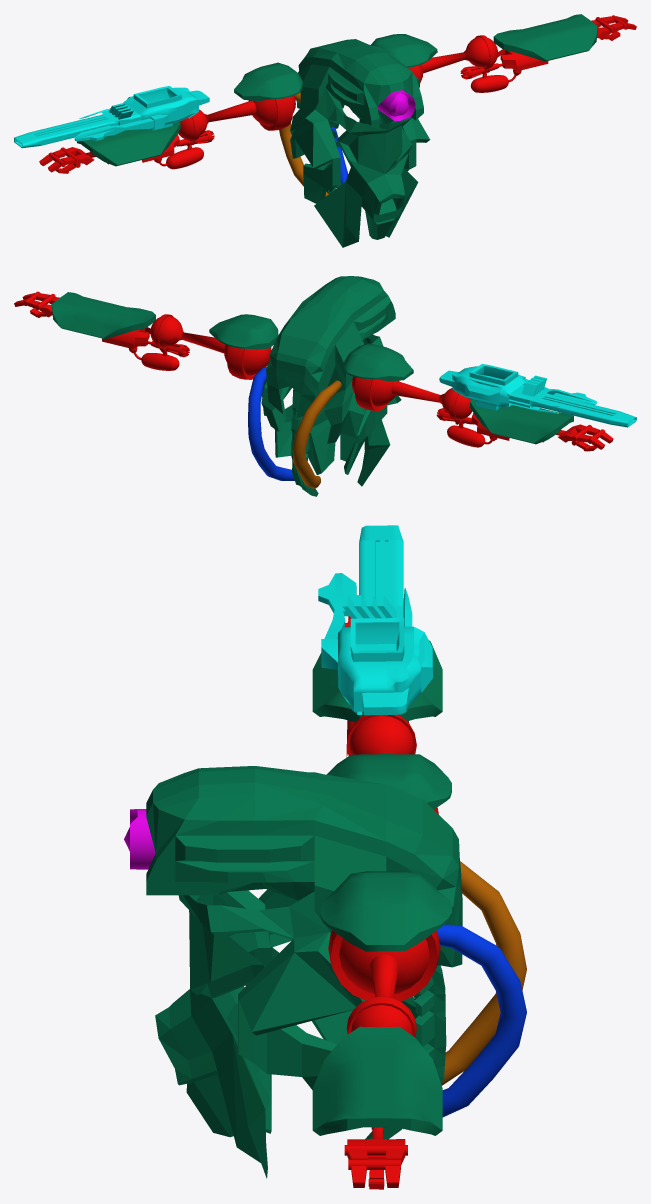
File: MechFBX.fbx
3 renders of one model, top to bottom at view 1: azimuth 30°, elevation 25°; view 2: azimuth 150°, elevation 25°; view 3: azimuth 270°, elevation 25°, orthographic. The views are drawn at different scales.
Visible parts, largest first — view 1: polySurface1, polySurface39, polySurface16, polySurface33, polySurface34, polySurface38, polySurface18, polySurface17, polySurface21, polySurface35, polySurface2, polySurface3; view 2: polySurface1, polySurface39, polySurface16, polySurface33, polySurface17, polySurface34, polySurface38, polySurface21, polySurface4, polySurface3, polySurface18, polySurface35; view 3: polySurface1, polySurface39, polySurface16, polySurface21, polySurface17, polySurface4, polySurface3, polySurface38, polySurface33, polySurface34, polySurface2.
Boxes of the visible parts, <box> form: polySurface1: <box>290,39,430,247</box>; polySurface39: <box>14,86,209,148</box>; polySurface16: <box>493,14,597,61</box>; polySurface33: <box>77,122,180,166</box>; polySurface34: <box>178,95,295,145</box>; polySurface38: <box>234,62,302,101</box>; polySurface18: <box>460,49,548,92</box>; polySurface17: <box>408,35,497,87</box>; polySurface21: <box>371,34,437,67</box>; polySurface35: <box>142,130,214,169</box>; polySurface2: <box>377,90,415,121</box>; polySurface3: <box>279,92,328,196</box>; polySurface1: <box>261,276,401,496</box>; polySurface39: <box>439,364,636,427</box>; polySurface16: <box>52,292,155,339</box>; polySurface33: <box>470,399,573,444</box>; polySurface17: <box>150,314,271,379</box>; polySurface34: <box>352,376,472,424</box>; polySurface38: <box>344,343,413,381</box>; polySurface21: <box>209,314,278,349</box>; polySurface4: <box>248,367,294,480</box>; polySurface3: <box>292,380,341,488</box>; polySurface18: <box>102,327,189,370</box>; polySurface35: <box>436,408,509,447</box>; polySurface1: <box>146,766,462,1178</box>; polySurface39: <box>318,525,432,715</box>; polySurface16: <box>312,1026,442,1135</box>; polySurface21: <box>320,871,451,951</box>; polySurface17: <box>328,930,440,1037</box>; polySurface4: <box>371,924,526,1129</box>; polySurface3: <box>441,861,526,1085</box>; polySurface38: <box>327,754,451,809</box>; polySurface33: <box>312,626,442,721</box>; polySurface34: <box>346,714,438,814</box>; polySurface2: <box>124,809,155,869</box>.
Bounding box in the file's own units: 0.4553 × 0.13 × 0.1359.
